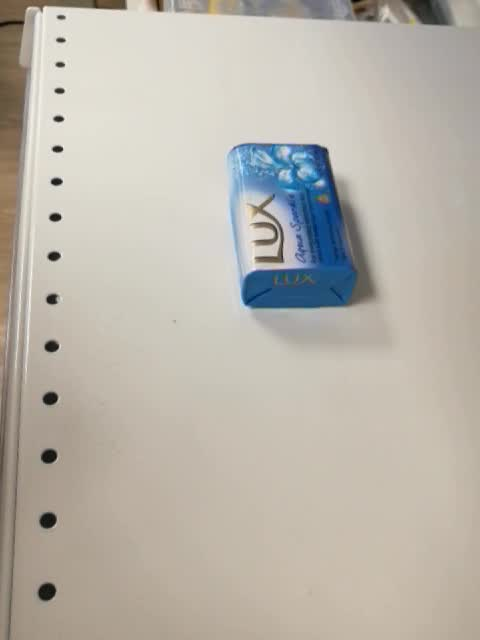soap: (223, 141, 358, 312)
